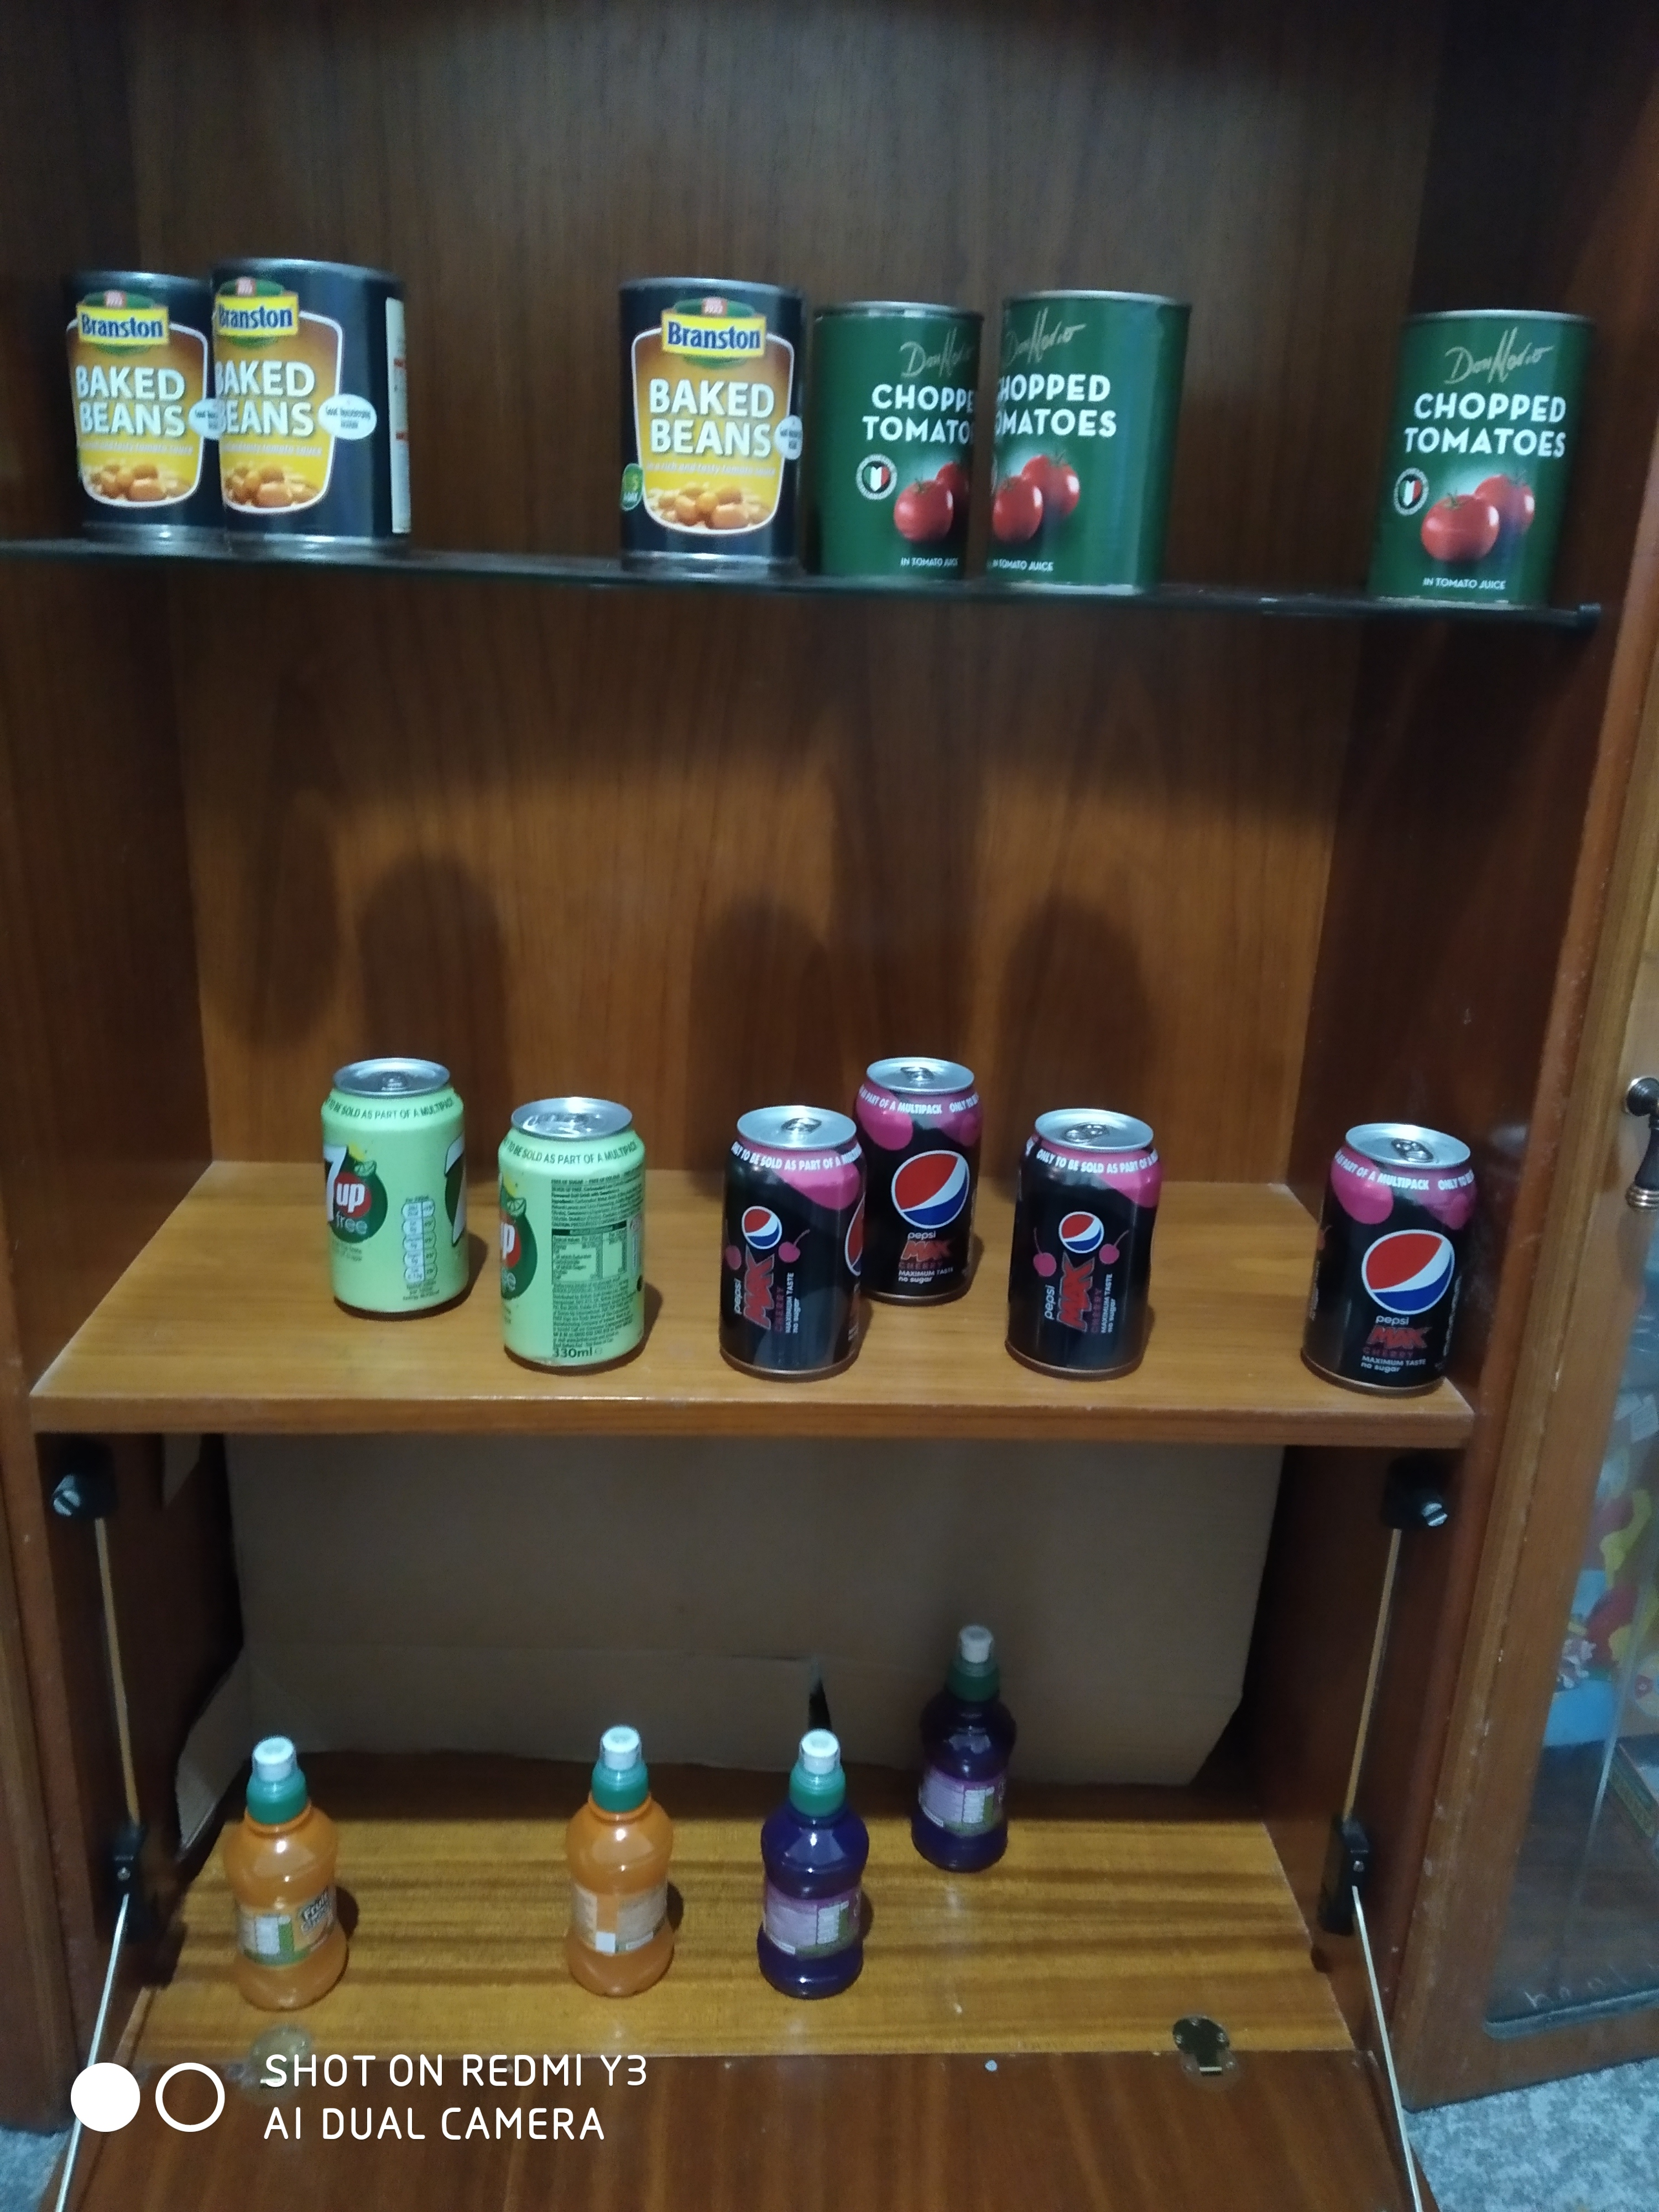beans: (59, 263, 214, 540)
